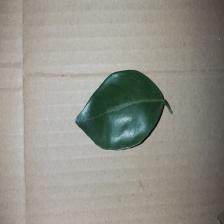healthy: (73, 72, 161, 145)
